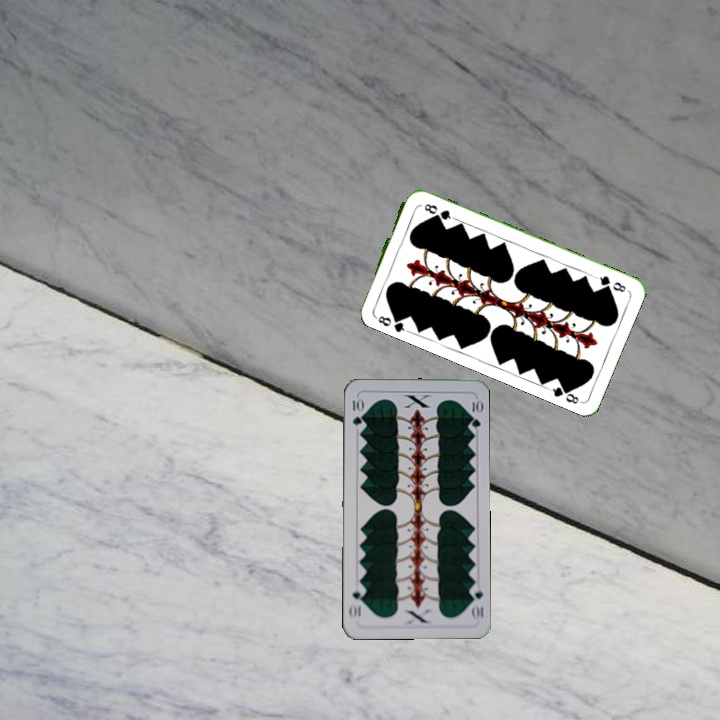G10: (466, 582, 486, 622), (348, 394, 364, 428)
G8: (370, 310, 409, 335), (591, 272, 628, 295)
